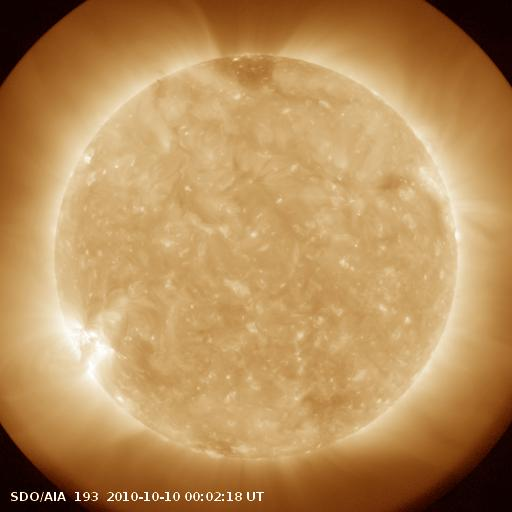coronal_hole: (209, 49, 286, 96)
